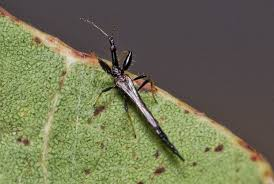Phlaeothripidae: (83, 18, 186, 164)
